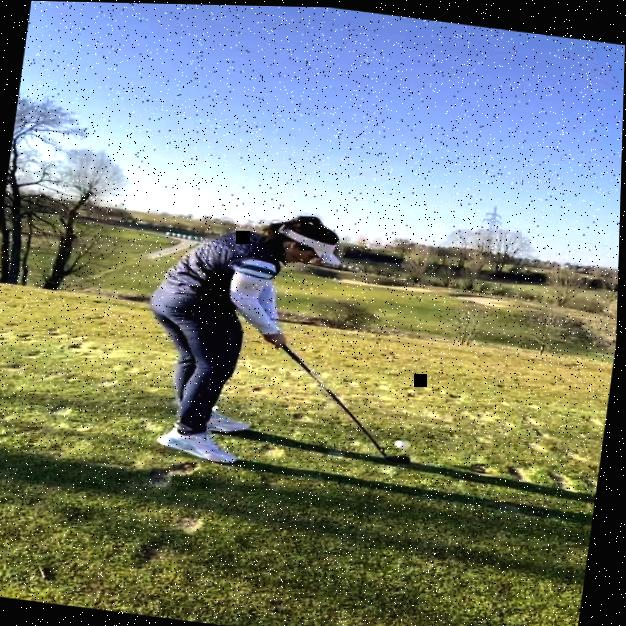ClubHead: (388, 450, 415, 463)
GolfBall: (397, 439, 413, 448)
